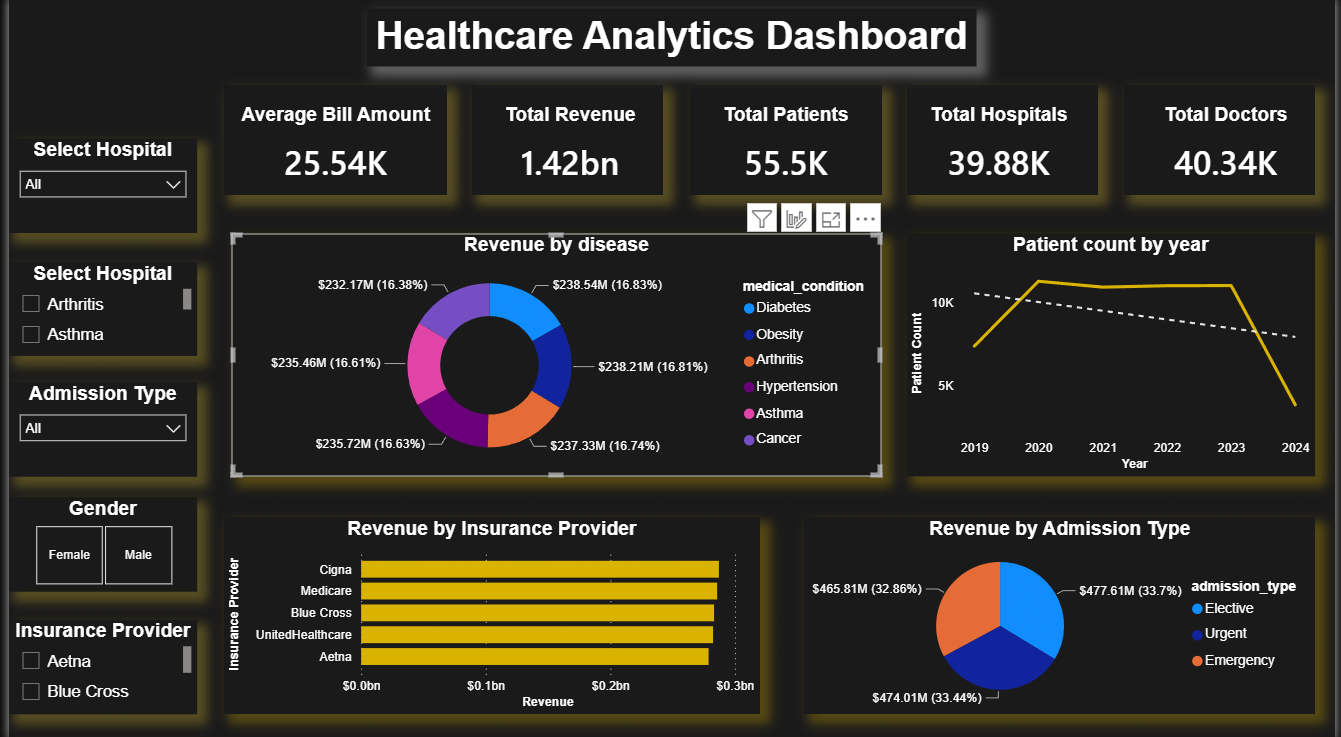

The page's visual inventory and layout, read from the dashboard file:
{"tool":"powerbi","page":{"name":"Page 1","canvas":[1280,720],"ordinal":0},"visuals":[{"type":"cardVisual","title":"Total Patients","fields":{"Data":["CountNonNull(healthcare_dataset.name)"]},"box":[657.5,103.8,185,88.8],"z":0},{"type":"cardVisual","title":"Total Hospitals","fields":{"Data":["Count(healthcare_dataset.hospital)"]},"box":[866.2,103.8,178.8,88.8],"z":1000},{"type":"cardVisual","title":"Total Revenue","fields":{"Data":["Sum(healthcare_dataset.billing_amount)"]},"box":[452.5,103.8,178.8,88.8],"z":2000},{"type":"cardVisual","title":"Total Doctors","fields":{"Data":["Count(healthcare_dataset.doctor)"]},"box":[1088.8,103.8,172.5,88.8],"z":3000},{"type":"textbox","box":[345,12.5,588.8,56.2],"z":4000},{"type":"shape","box":[446.2,86.2,185,106.2],"z":5000},{"type":"shape","box":[657.5,86.2,185,106.2],"z":6000},{"type":"shape","box":[1076.2,86.2,185,106.2],"z":7000},{"type":"shape","box":[866.2,86.2,185,106.2],"z":8000},{"type":"shape","box":[207.5,86.2,215,106.2],"z":9000},{"type":"cardVisual","title":"Average Bill Amount","fields":{"Data":["Avg(healthcare_dataset.billing_amount)"]},"box":[215,103.8,201.2,88.8],"z":10000},{"type":"slicer","title":"Select Hospital","fields":{"Values":["healthcare_dataset.hospital"]},"box":[0,137.5,181.2,91.2],"z":11000},{"type":"slicer","title":"Select Hospital","fields":{"Values":["healthcare_dataset.medical_condition"]},"box":[0,257.5,181.2,90],"z":12000},{"type":"slicer","title":"Insurance Provider","fields":{"Values":["healthcare_dataset.insurance_provider"]},"box":[0,602.5,181.2,91.2],"z":13000},{"type":"slicer","title":"Admission Type","fields":{"Values":["healthcare_dataset.admission_type"]},"box":[0,372.5,181.2,91.2],"z":14000},{"type":"slicer","title":"Gender","fields":{"Values":["healthcare_dataset.gender"]},"box":[0,483.8,181.2,91.2],"z":15000},{"type":"donutChart","title":"Revenue by disease","fields":{"Category":["healthcare_dataset.medical_condition"],"Y":["Sum(healthcare_dataset.billing_amount)"]},"box":[214.7,229.2,627.3,234],"z":16000},{"type":"lineChart","title":"Patient count by year","fields":{"Y":["CountNonNull(healthcare_dataset.name)"],"Category":["healthcare_dataset.date_of_admission.Variation.Date Hierarchy.Year"]},"box":[866.2,229.2,394.5,234],"z":17000},{"type":"barChart","title":"Revenue by Insurance Provider","fields":{"Category":["healthcare_dataset.insurance_provider"],"Y":["Sum(healthcare_dataset.billing_amount)"]},"box":[207.2,503.6,517.3,189.4],"z":17001},{"type":"pieChart","title":"Revenue by Admission Type","fields":{"Category":["healthcare_dataset.admission_type"],"Y":["Sum(healthcare_dataset.billing_amount)"]},"box":[767.1,503.6,494,189.4],"z":17002}]}

Visuals, with their boxes in screenshot pixels (x1, y1, x2, y2), scaled from the page's 1280x720 canvas onto the 1341x737 screenshot:
"Total Patients" cardVisual: crop(689, 106, 883, 197)
"Total Hospitals" cardVisual: crop(907, 106, 1095, 197)
"Total Revenue" cardVisual: crop(474, 106, 661, 197)
"Total Doctors" cardVisual: crop(1141, 106, 1321, 197)
textbox: crop(361, 13, 978, 70)
shape: crop(467, 88, 661, 197)
shape: crop(689, 88, 883, 197)
shape: crop(1127, 88, 1321, 197)
shape: crop(907, 88, 1101, 197)
shape: crop(217, 88, 443, 197)
"Average Bill Amount" cardVisual: crop(225, 106, 436, 197)
"Select Hospital" slicer: crop(0, 141, 190, 234)
"Select Hospital" slicer: crop(0, 264, 190, 356)
"Insurance Provider" slicer: crop(0, 617, 190, 710)
"Admission Type" slicer: crop(0, 381, 190, 475)
"Gender" slicer: crop(0, 495, 190, 589)
"Revenue by disease" donutChart: crop(225, 235, 882, 474)
"Patient count by year" lineChart: crop(907, 235, 1321, 474)
"Revenue by Insurance Provider" barChart: crop(217, 515, 759, 709)
"Revenue by Admission Type" pieChart: crop(804, 515, 1321, 709)
